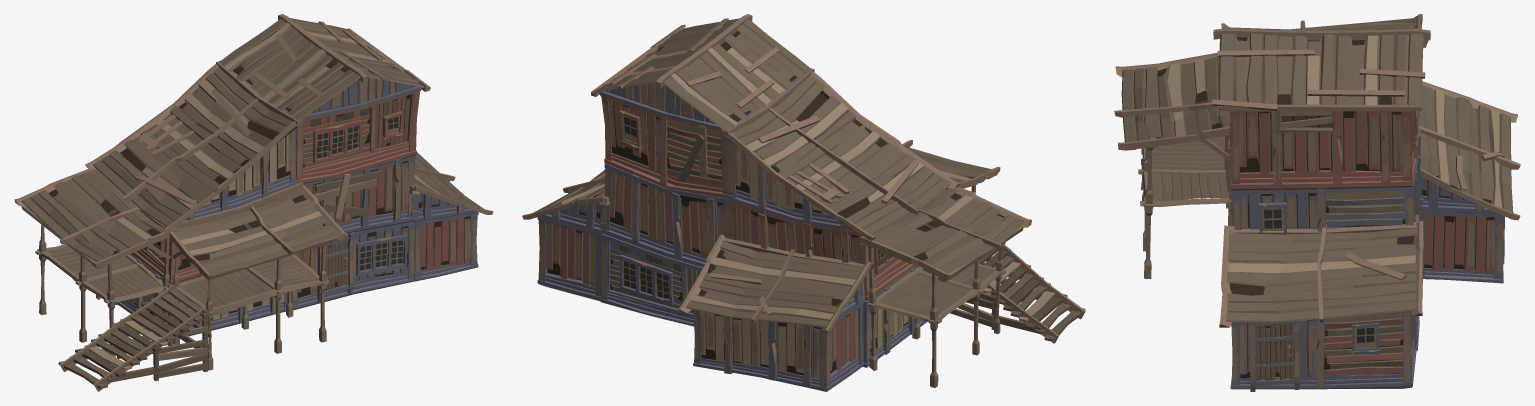
The model's file is SM_Bld_Shanty_Preset_03.glb.
3 renders of one model, left to right at view 1: azimuth 30°, elevation 25°; view 2: azimuth 150°, elevation 25°; view 3: azimuth 270°, elevation 25°, orthographic. The views are drawn at different scales.
Parts seen in each view (by area): view 1: SM_Bld_Shanty_Preset_03; view 2: SM_Bld_Shanty_Preset_03; view 3: SM_Bld_Shanty_Preset_03.
Boxes of the visible parts, left/top/right/bottom form: SM_Bld_Shanty_Preset_03: left=14, top=14, right=493, bottom=391; SM_Bld_Shanty_Preset_03: left=522, top=14, right=1085, bottom=391; SM_Bld_Shanty_Preset_03: left=1114, top=14, right=1520, bottom=391.
Bounding box in the file's own units: 0.1721 × 0.0894 × 0.1114.
1 material, 1 textured.
